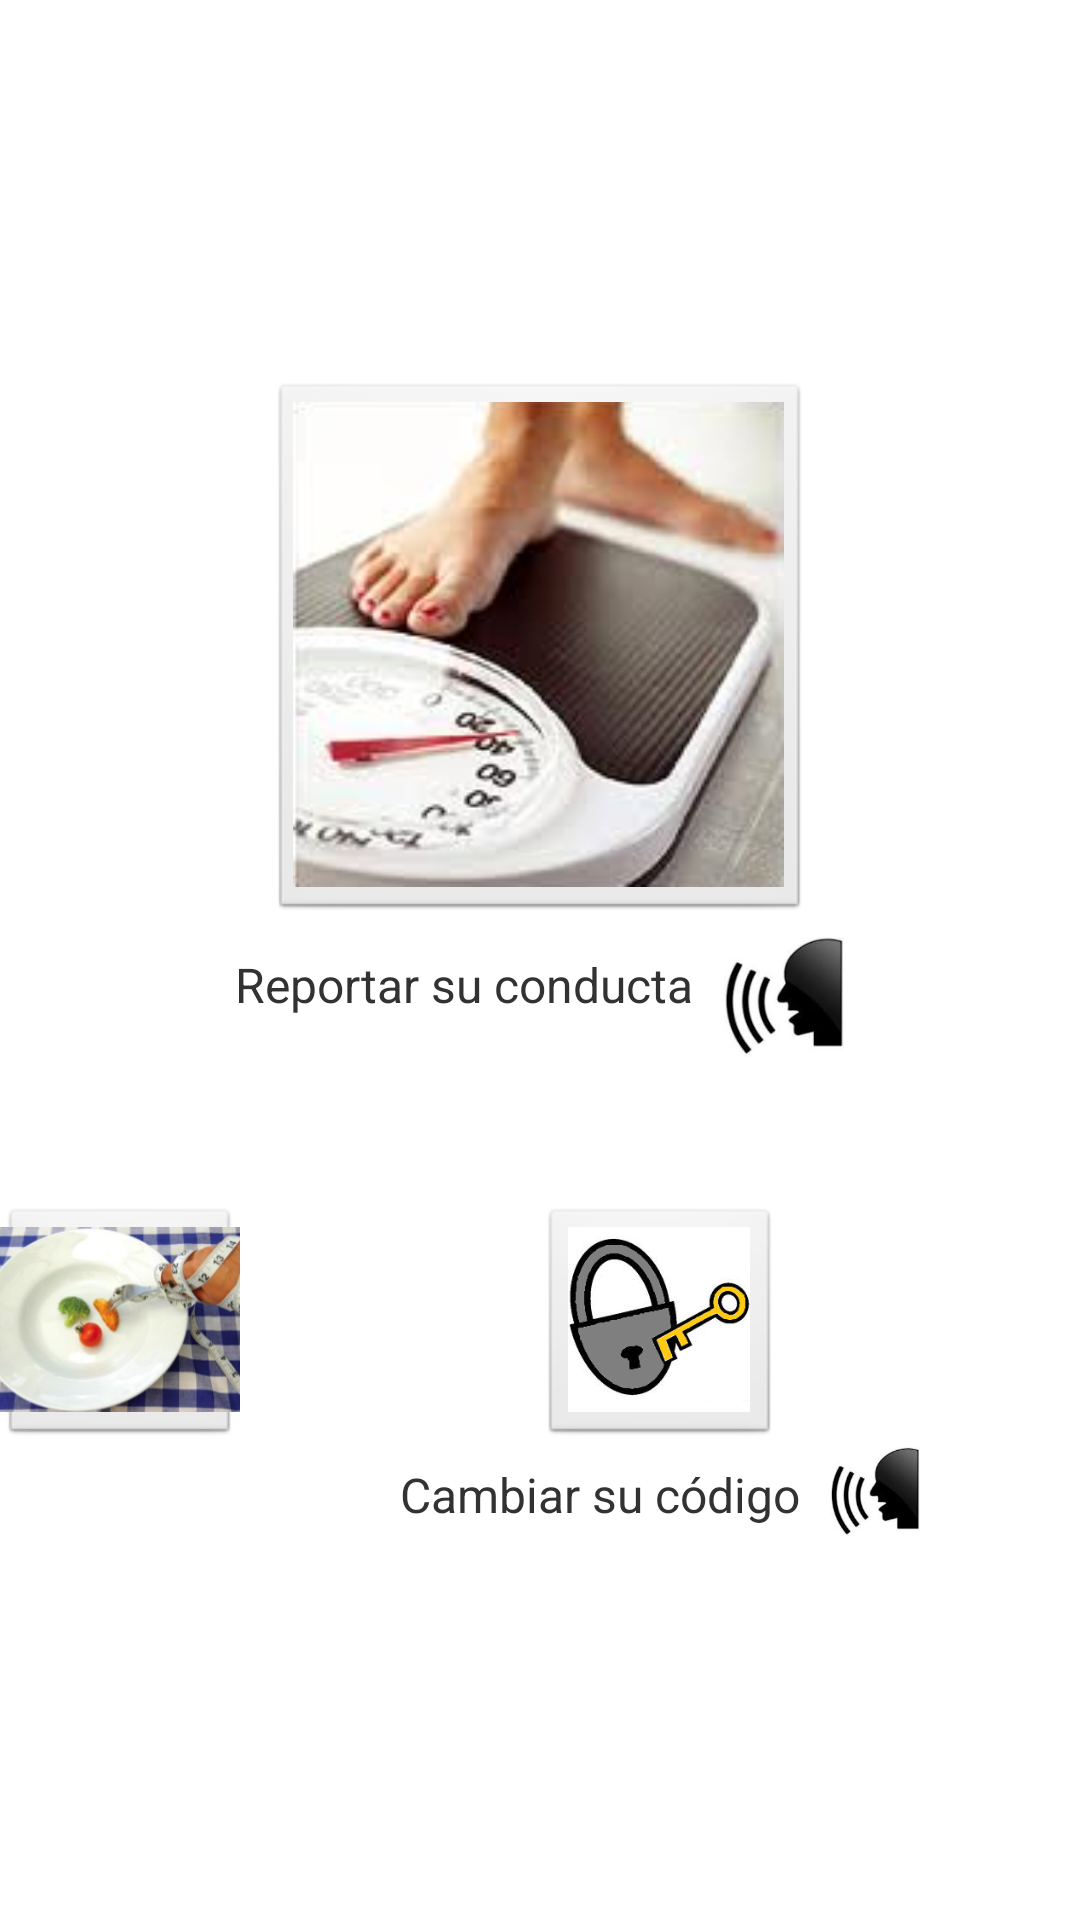

Point at icon controls on the screen. Image size 1080*1920, points as (x,y).
home dieting: (120,1323)
pass: (659,1323)
soundicon: (784,996), (875,1491)
